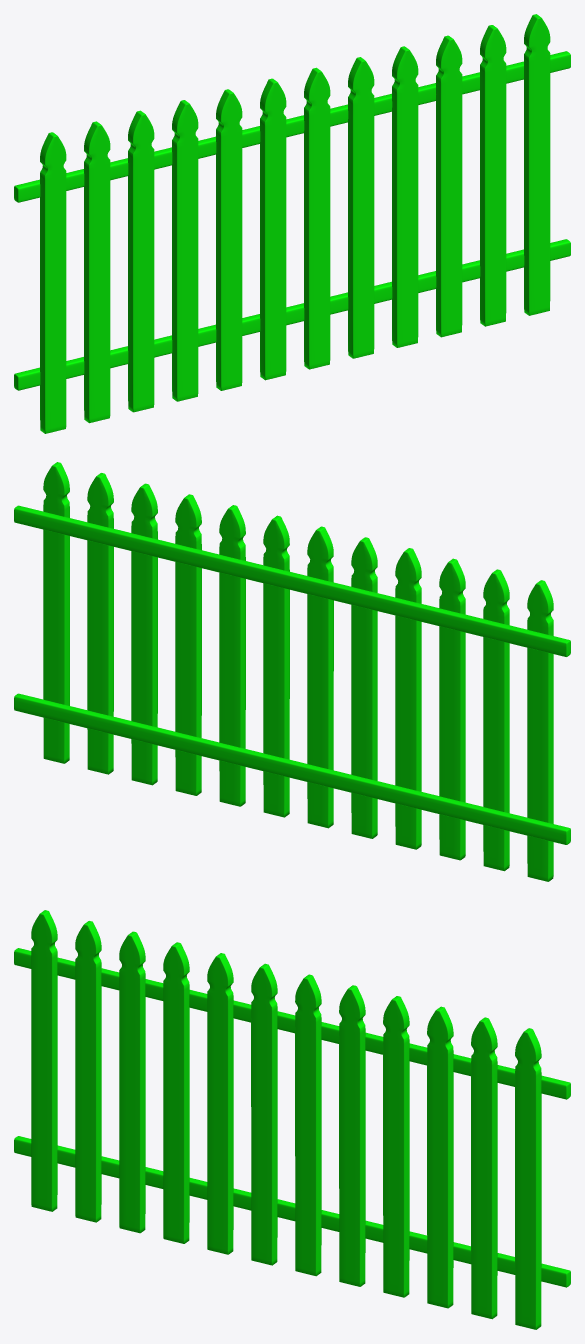
3 renders of one model, top to bottom at view 1: azimuth 30°, elevation 25°; view 2: azimuth 150°, elevation 25°; view 3: azimuth 330°, elevation 25°, orthographic.
Visible parts, largest first — view 1: g wood_fenceing polySurface6, g wood_fenceing polySurface7, g wood_fenceing polySurface10, g wood_fenceing polySurface13, g wood_fenceing polySurface8, g wood_fenceing polySurface9, g wood_fenceing polySurface11, g wood_fenceing polySurface12, g wood_fenceing polySurface14, g wood_fenceing polySurface17, g wood_fenceing polySurface15, g wood_fenceing polySurface16 (+2 smaller); view 2: g wood_fenceing polySurface20, g polySurface18 wood_fenceing, g wood_fenceing polySurface16, g wood_fenceing polySurface12, g wood_fenceing polySurface17, g wood_fenceing polySurface6, g wood_fenceing polySurface13, g wood_fenceing polySurface14, g wood_fenceing polySurface8, g wood_fenceing polySurface9, g wood_fenceing polySurface10, g wood_fenceing polySurface15 (+2 smaller); view 3: g wood_fenceing polySurface12, g wood_fenceing polySurface16, g wood_fenceing polySurface8, g wood_fenceing polySurface6, g wood_fenceing polySurface15, g wood_fenceing polySurface9, g wood_fenceing polySurface11, g wood_fenceing polySurface13, g wood_fenceing polySurface10, g wood_fenceing polySurface17, g wood_fenceing polySurface7, g wood_fenceing polySurface14 (+2 smaller).
Boxes of the visible parts, x1,y1,x2,y2 form: g wood_fenceing polySurface6: (40,132,66,433); g wood_fenceing polySurface7: (84,121,110,423); g wood_fenceing polySurface10: (216,89,242,390); g wood_fenceing polySurface13: (348,57,374,358); g wood_fenceing polySurface8: (128,110,154,412); g wood_fenceing polySurface9: (172,100,198,401); g wood_fenceing polySurface11: (260,78,286,380); g wood_fenceing polySurface12: (304,67,330,369); g wood_fenceing polySurface14: (392,46,418,347); g wood_fenceing polySurface17: (524,14,550,315); g wood_fenceing polySurface15: (436,35,462,337); g wood_fenceing polySurface16: (480,25,506,326); g wood_fenceing polySurface20: (14,693,570,844); g polySurface18 wood_fenceing: (14,505,570,656); g wood_fenceing polySurface16: (87,473,113,774); g wood_fenceing polySurface12: (263,515,289,817); g wood_fenceing polySurface17: (43,462,69,763); g wood_fenceing polySurface6: (527,580,553,881); g wood_fenceing polySurface13: (219,505,245,806); g wood_fenceing polySurface14: (175,494,201,795); g wood_fenceing polySurface8: (439,558,465,860); g wood_fenceing polySurface9: (395,548,421,849); g wood_fenceing polySurface10: (351,537,377,838); g wood_fenceing polySurface15: (131,483,157,785); g wood_fenceing polySurface12: (295,974,321,1276); g wood_fenceing polySurface16: (471,1017,497,1319); g wood_fenceing polySurface8: (119,931,145,1233); g wood_fenceing polySurface6: (31,910,57,1211); g wood_fenceing polySurface15: (427,1006,453,1308); g wood_fenceing polySurface9: (163,942,189,1243); g wood_fenceing polySurface11: (251,963,277,1265); g wood_fenceing polySurface13: (339,985,365,1286); g wood_fenceing polySurface10: (207,953,233,1254); g wood_fenceing polySurface17: (515,1028,541,1329); g wood_fenceing polySurface7: (75,921,101,1222); g wood_fenceing polySurface14: (383,996,409,1297).
Size of the model in its own units: 2 by 1.02 by 0.0583.
